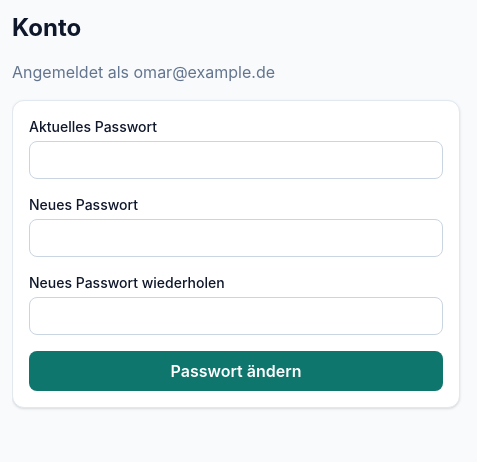
Scenario: Konto › checks the repetition locally
Type "altes-passwort-1" into the password field labelled "Aktuelles Passwort" at [236, 160], box [29, 141, 443, 179]
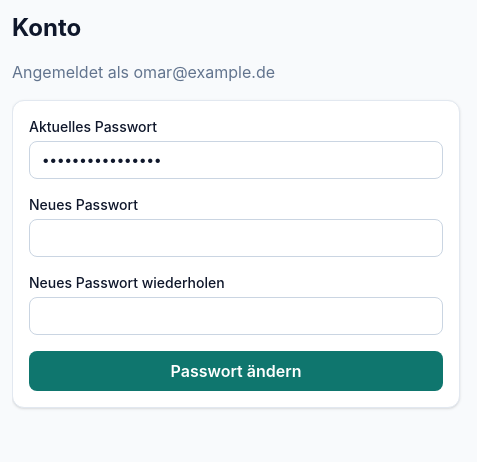
Type "neues-passwort-12" into the password field labelled "Neues Passwort" at [236, 238], box [29, 219, 443, 257]
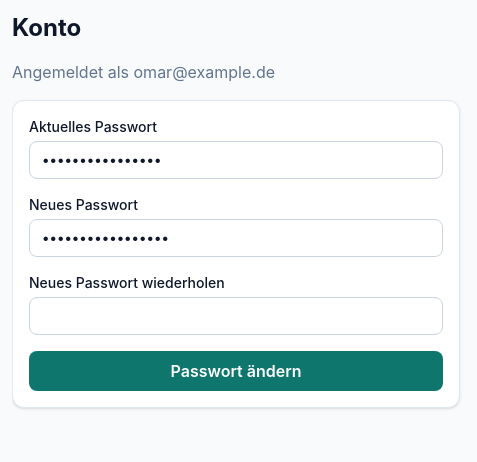
Type "anderes-passwort" into the password field labelled "Neues Passwort wiederholen" at [236, 316], box [29, 297, 443, 335]
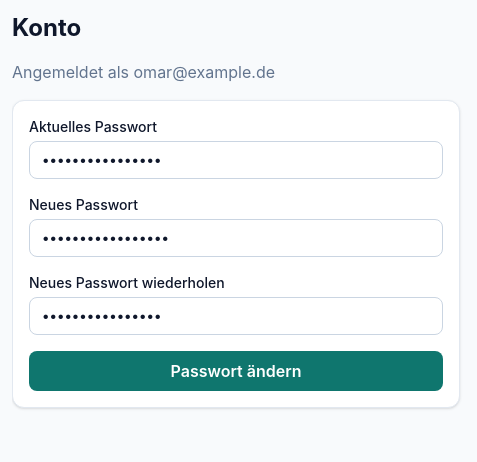
Click the button "Passwort ändern" at [236, 371], box [29, 351, 443, 391]
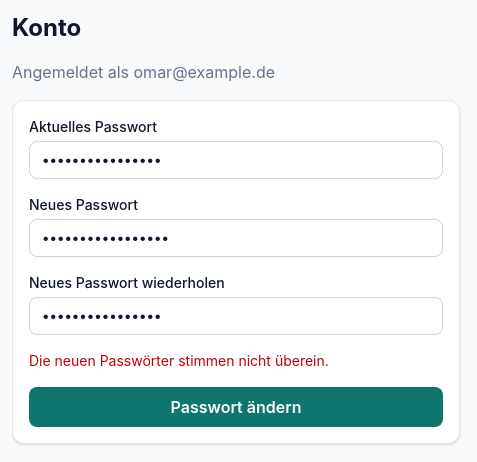
Expected: the message reads "Die neuen Passwörter stimmen nicht überein.", [29, 352, 329, 369]
